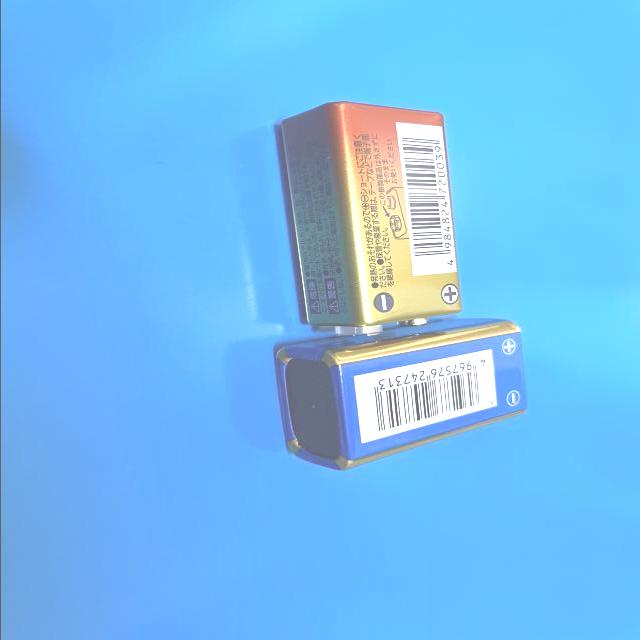9V: (277, 101, 461, 336), (274, 317, 527, 470)
